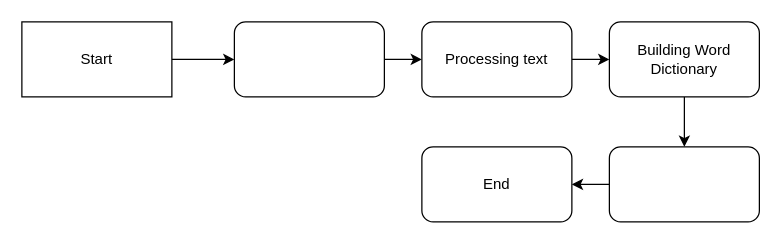
This 781x244 diagram has some shape labels left out. Each missing label, with the centre of its shape:
Fetching text: pixel 308 59
Generating Markov Chain: pixel 683 184
